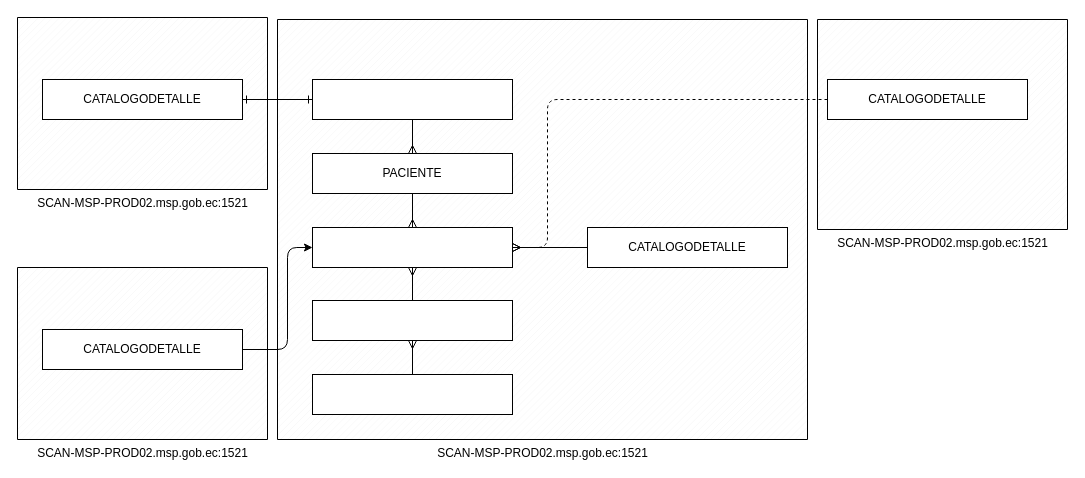
Image size: 1085x478. Some labels were removed from this diagram. Here are the shapes that lost their labels. From the top down, the centre of each, then its label:
At point (412, 99): "PERSONA".
At point (412, 247): "REGISTROVACUNACION".
At point (412, 320): "ESQUEMAVACUNACION".
At point (412, 394): "MEDICAMENTO".
